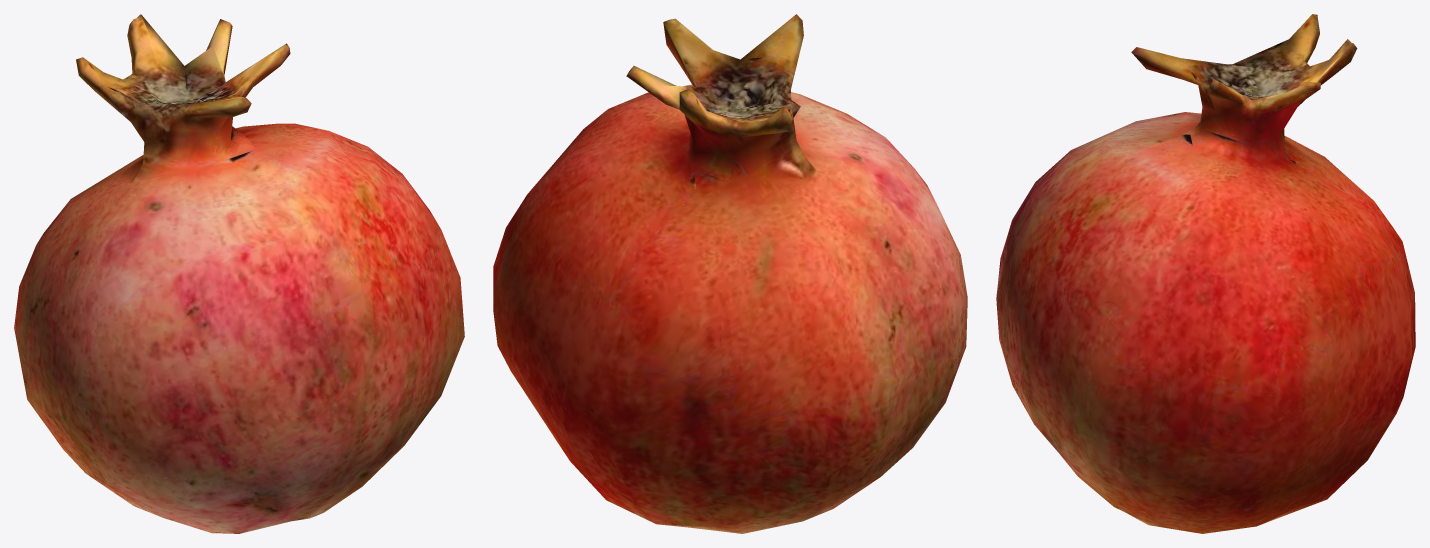
The model's file is pome.glb.
3 views of the same model, side by side, from view 1: azimuth 30°, elevation 25°; view 2: azimuth 150°, elevation 25°; view 3: azimuth 270°, elevation 25° (orthographic). The views are drawn at different scales.
Parts seen in each view (by area): view 1: Pomegranate_Pomegranate_0; view 2: Pomegranate_Pomegranate_0; view 3: Pomegranate_Pomegranate_0.
Boxes of the visible parts, <box> form: Pomegranate_Pomegranate_0: <box>14,14,464,533</box>; Pomegranate_Pomegranate_0: <box>493,14,967,533</box>; Pomegranate_Pomegranate_0: <box>996,14,1415,533</box>.
Size of the model in its own units: 0.5397 by 0.6092 by 0.5107.
Materials: 1 (1 with a texture image).
